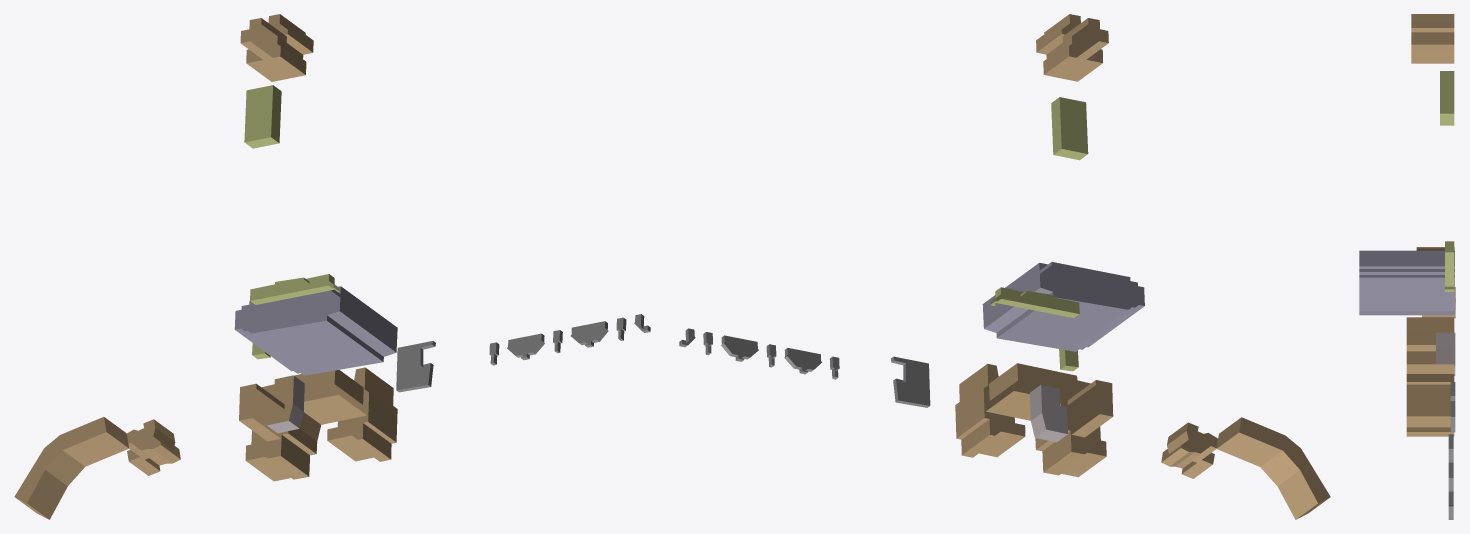
The picture shows the model from 3 angles, left to right: view 1: azimuth 30°, elevation 25°; view 2: azimuth 150°, elevation 25°; view 3: azimuth 270°, elevation 25°; orthographic projection. The views are drawn at different scales.
Visible parts, largest first — view 1: 0_3_2_0_1_0; view 2: 0_3_2_0_1_0; view 3: 0_3_2_0_1_0.
Part boxes in pixels (x1,y1,x2,y2): 0_3_2_0_1_0: (14,14,650,519); 0_3_2_0_1_0: (679,14,1330,519); 0_3_2_0_1_0: (1359,14,1455,519).
Bounding box in the file's own units: 386 × 260 × 60.3.
